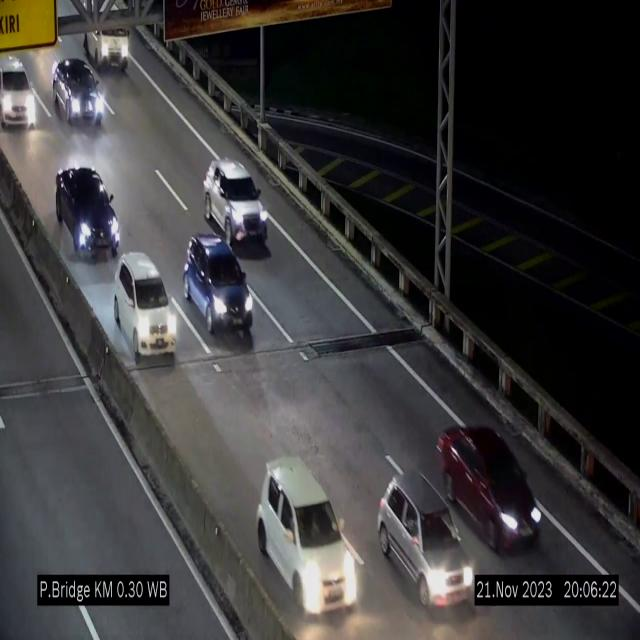Car: (258, 460, 358, 612), (443, 421, 540, 561), (377, 467, 474, 607), (108, 255, 180, 366), (183, 233, 254, 341), (52, 166, 118, 267), (204, 158, 268, 252), (52, 59, 110, 135), (80, 0, 132, 78), (0, 51, 45, 137)
